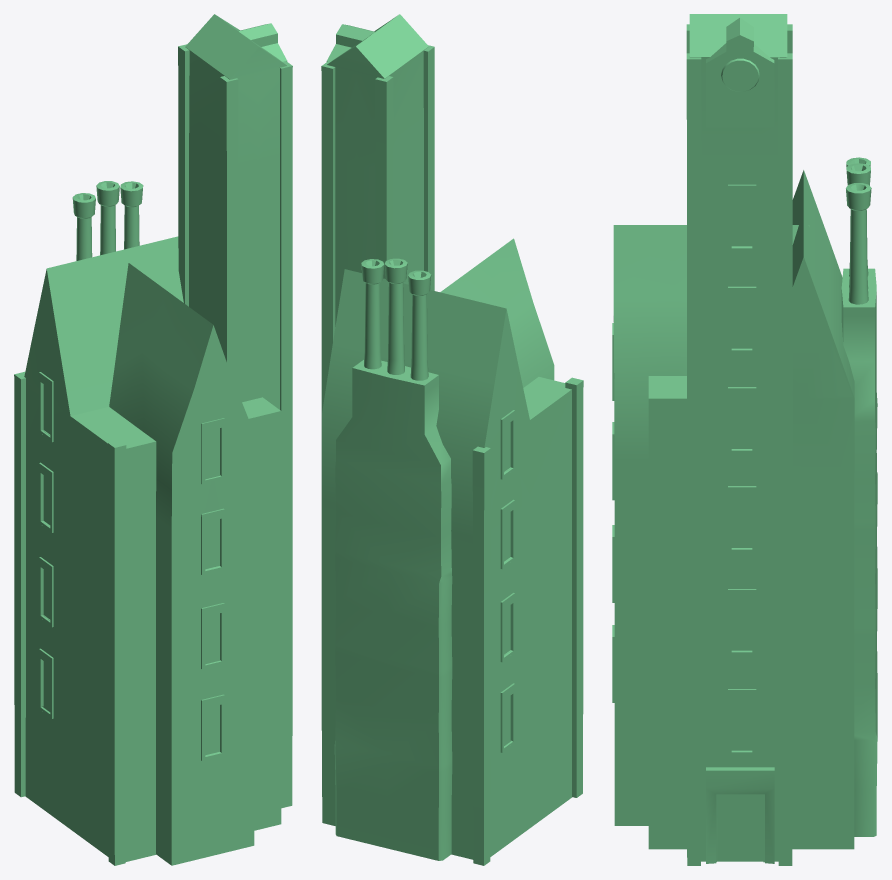
Rendered from Bgr_Building15.fbx.
The picture shows the model from 3 angles, left to right: view 1: azimuth 30°, elevation 25°; view 2: azimuth 150°, elevation 25°; view 3: azimuth 270°, elevation 25°; orthographic projection. The views are drawn at different scales.
Visible parts, largest first — view 1: Bgr_Building15; view 2: Bgr_Building15; view 3: Bgr_Building15.
Part boxes in pixels (x1,y1,x2,y2): Bgr_Building15: (14,14,292,865); Bgr_Building15: (321,14,583,865); Bgr_Building15: (612,14,877,865).
Size of the model in its own units: 1114 by 4033 by 1160.
